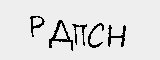Д: (47, 19, 74, 51)
Н: (105, 22, 126, 47)
П: (71, 22, 88, 48)
Р: (22, 12, 44, 39)
С: (85, 22, 106, 51)
